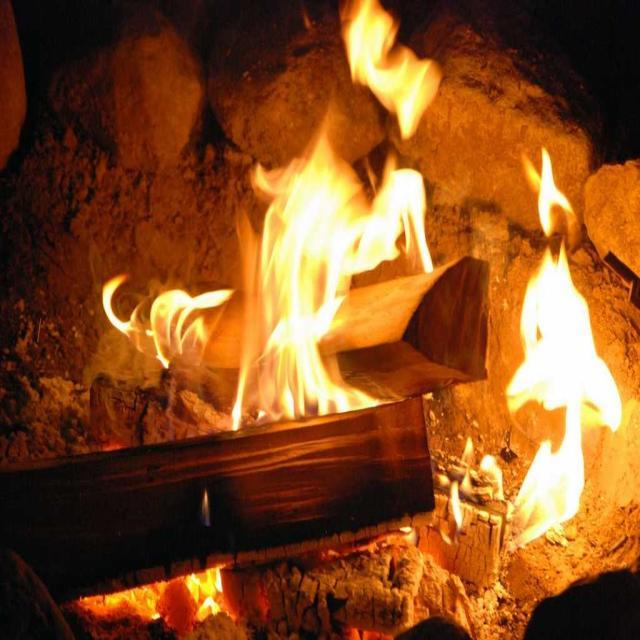Fire: (248, 176, 358, 411), (530, 266, 595, 414)
